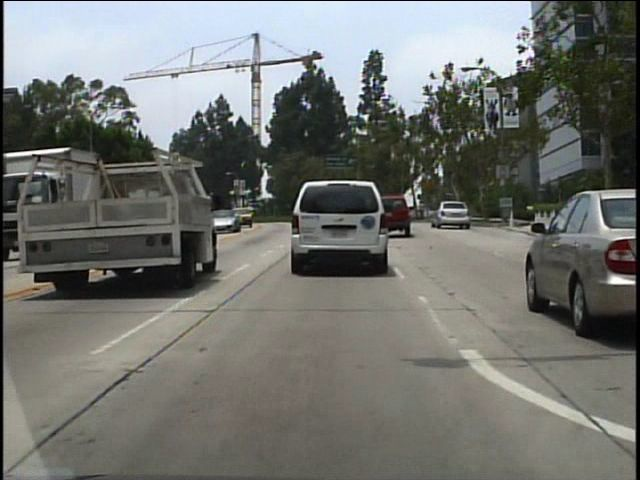person: (415, 196, 429, 222)
